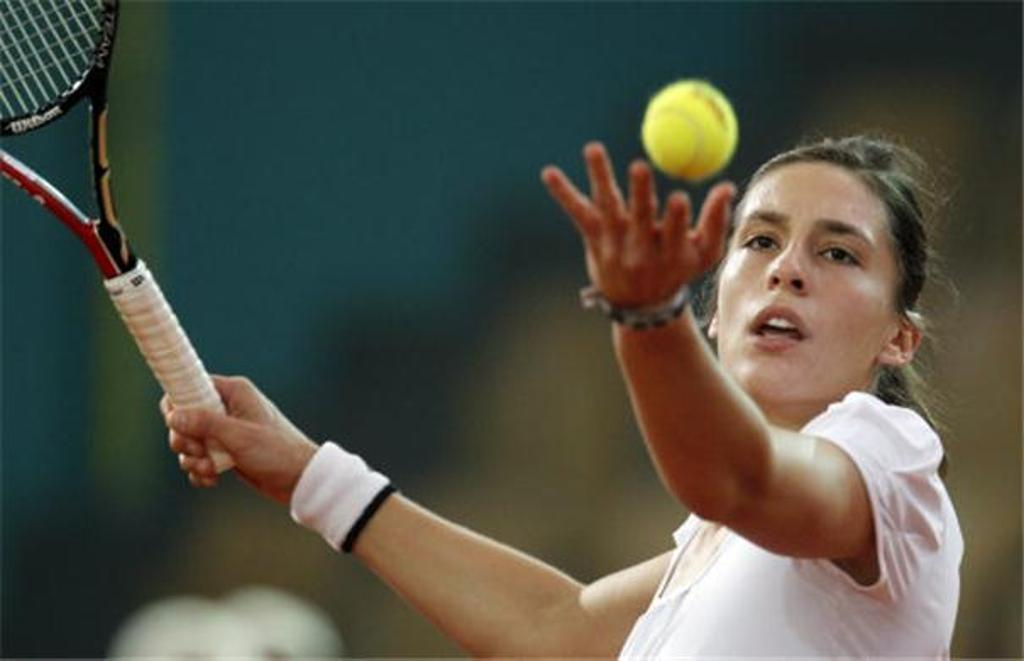face: (715, 157, 885, 399)
